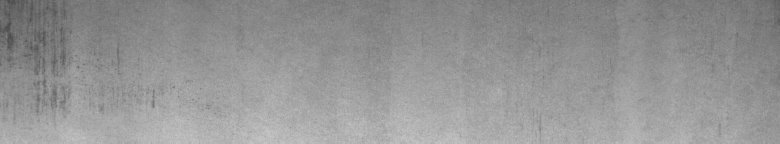ka: (4, 4, 157, 111)
